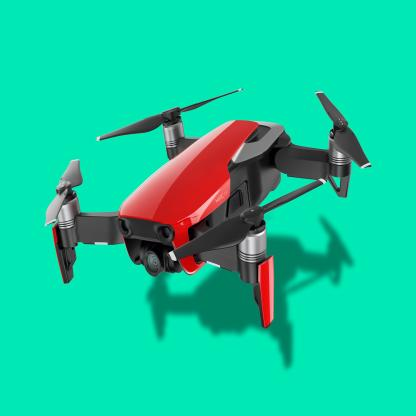drone: (46, 93, 387, 326)
